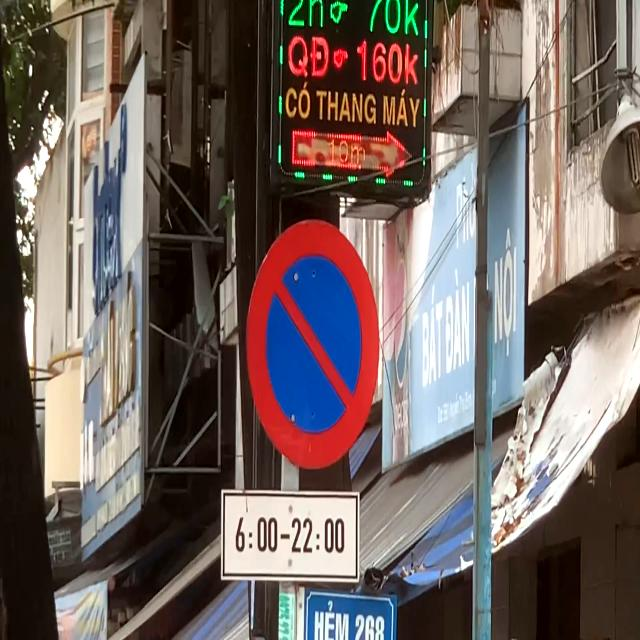P.131a: (245, 220, 376, 472)
